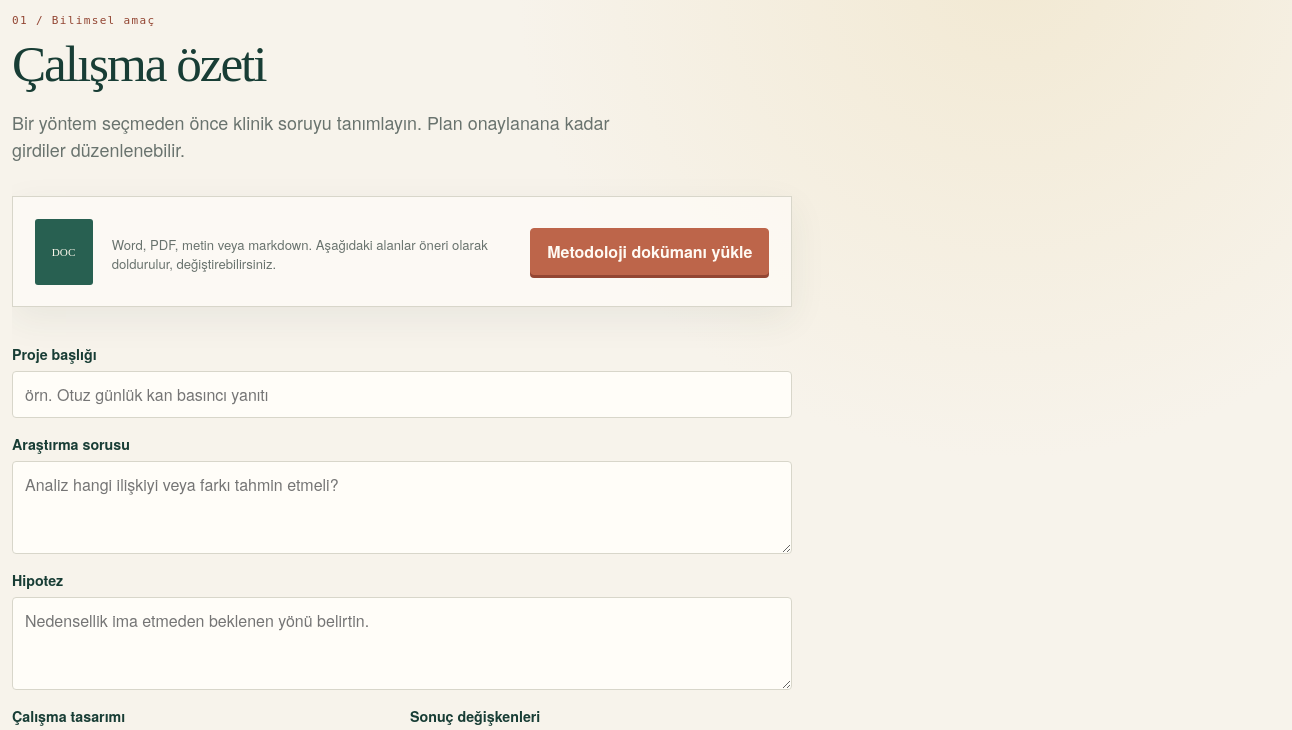
Scenario: drops the from-document badge once the user edits the proposed field
Click the button "Metodoloji dokümanı yükle". click: click(650, 252)
box: [530,228,769,275]
(page scrolled)
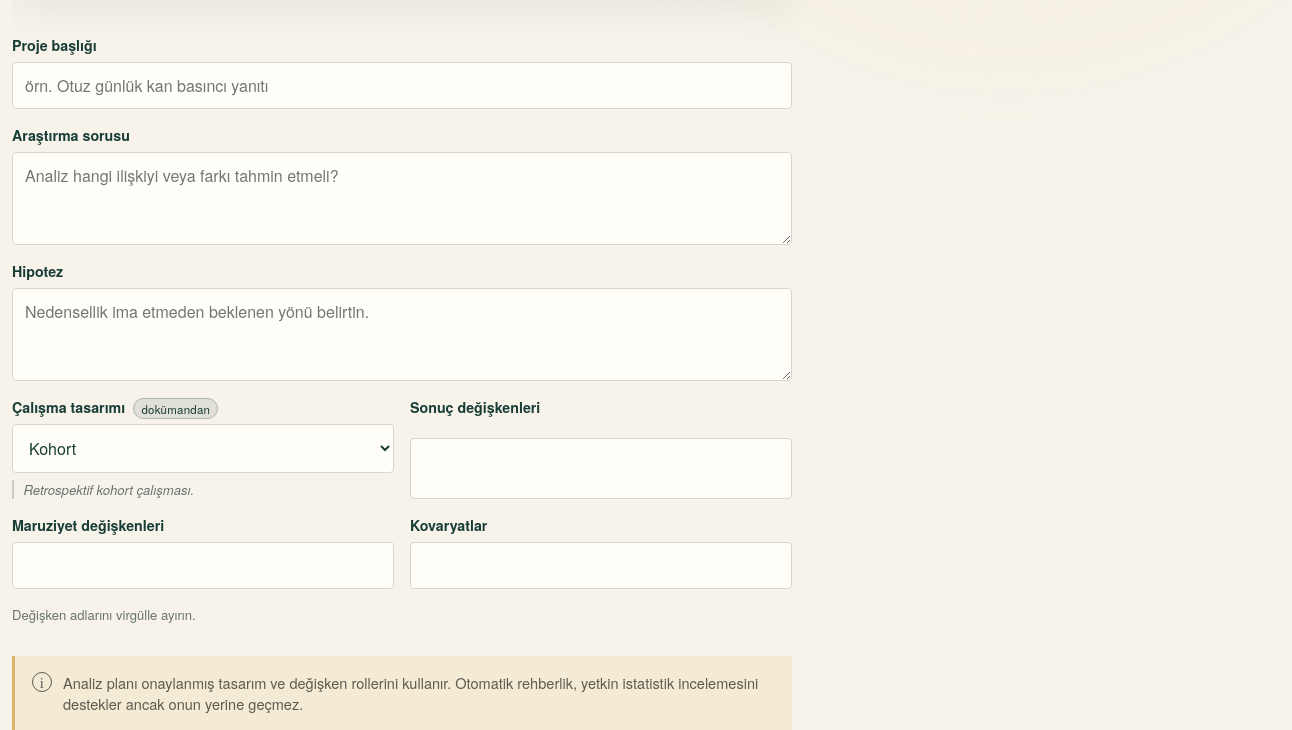
expect the text "dokümandan" is shown: met, box [133,398,218,419]
Select "Klinik araştırma" in the dropdown labelled "Çalışma tasarımı". click: (203, 449)
box: [12,424,394,474]
(page scrolled)
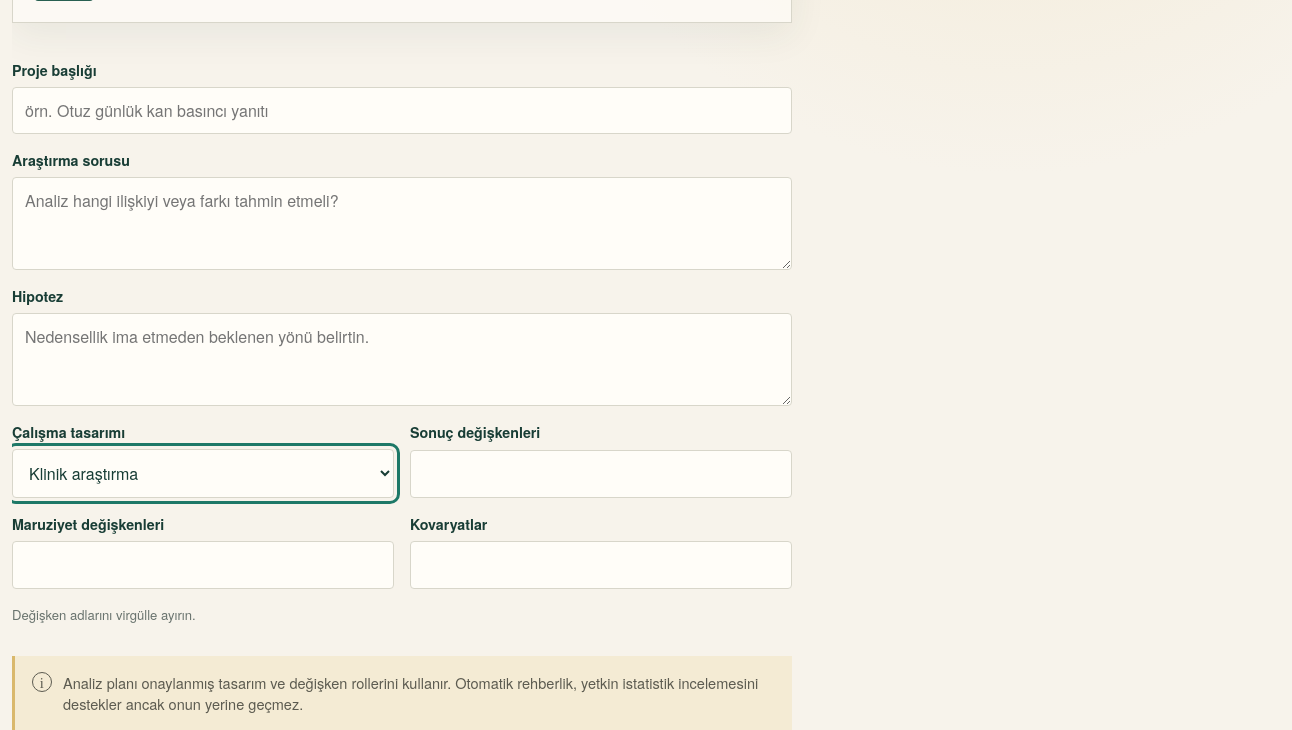
expect the text "dokümandan" is gone: met
expect the text "Retrospektif kohort çalışması." is gone: met
